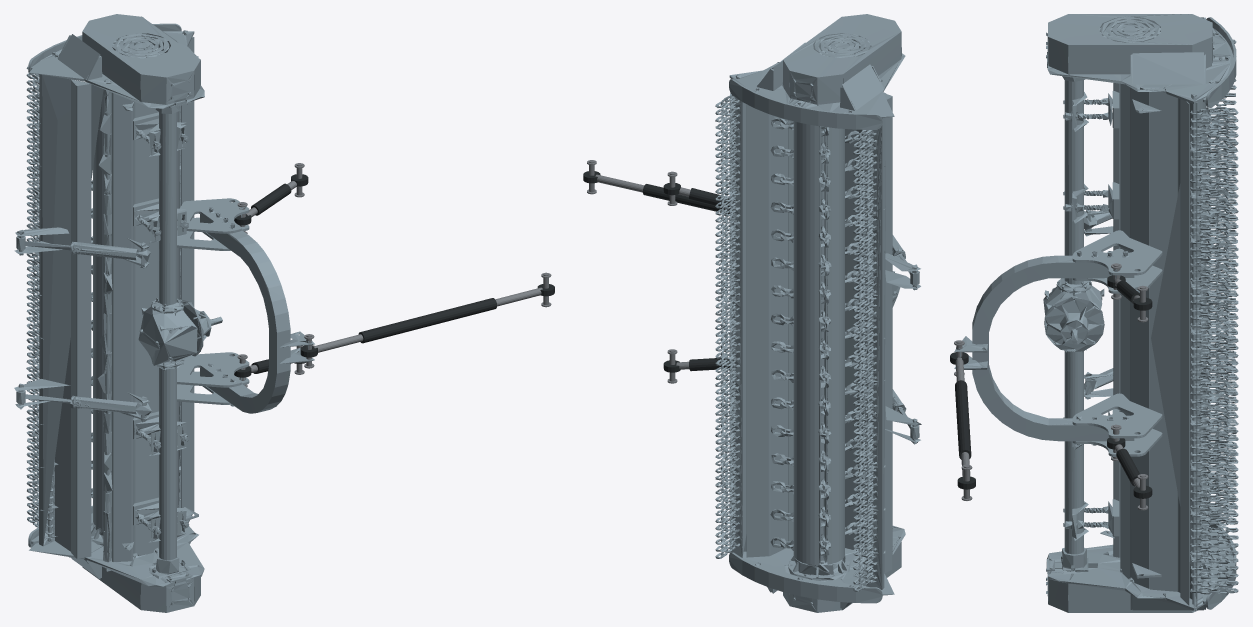
File: implement_forest_chain_crusher_visual.obj
3 renders of one model, left to right at view 1: azimuth 30°, elevation 25°; view 2: azimuth 150°, elevation 25°; view 3: azimuth 270°, elevation 25°, orthographic. The views are drawn at different scales.
Parts seen in each view (by area): view 1: solid_1104, solid_1116, solid_51, solid_49, solid_1168, solid_1170, solid_596, solid_86, solid_203, solid_261, solid_24, solid_135 (+12 smaller); view 2: solid_50, solid_558, solid_596, solid_1168, solid_1104, solid_49, solid_48, solid_1116, solid_132, solid_134, solid_0, solid_24 (+6 smaller); view 3: solid_49, solid_50, solid_1168, solid_48, solid_1170, solid_86, solid_261, solid_203, solid_24, solid_136, solid_18, solid_1169 (+16 smaller).
Boxes of the visible parts, left/top/right/bottom form: solid_1104: left=39, top=74, right=103, bottom=546; solid_1116: left=71, top=79, right=91, bottom=558; solid_51: left=111, top=92, right=132, bottom=561; solid_49: left=110, top=92, right=178, bottom=558; solid_1168: left=82, top=14, right=200, bottom=102; solid_1170: left=200, top=214, right=290, bottom=413; solid_596: left=93, top=92, right=104, bottom=529; solid_86: left=181, top=37, right=194, bottom=511; solid_203: left=159, top=112, right=176, bottom=305; solid_261: left=159, top=367, right=176, bottom=560; solid_24: left=29, top=510, right=204, bottom=586; solid_135: left=138, top=306, right=197, bottom=365; solid_50: left=746, top=104, right=787, bottom=557; solid_558: left=793, top=121, right=818, bottom=565; solid_596: left=827, top=127, right=844, bottom=564; solid_1168: left=782, top=14, right=901, bottom=102; solid_1104: left=866, top=117, right=885, bottom=589; solid_49: left=788, top=120, right=865, bottom=551; solid_48: left=730, top=79, right=746, bottom=557; solid_1116: left=883, top=93, right=892, bottom=573; solid_132: left=729, top=79, right=882, bottom=129; solid_134: left=729, top=552, right=882, bottom=603; solid_0: left=729, top=44, right=905, bottom=117; solid_24: left=729, top=525, right=905, bottom=595; solid_49: left=1120, top=83, right=1149, bottom=588; solid_50: left=1150, top=91, right=1192, bottom=599; solid_1168: left=1047, top=14, right=1212, bottom=71; solid_48: left=1151, top=102, right=1197, bottom=606; solid_1170: left=972, top=255, right=1134, bottom=441; solid_86: left=1180, top=99, right=1189, bottom=605; solid_261: left=1064, top=351, right=1083, bottom=554; solid_203: left=1064, top=80, right=1083, bottom=284; solid_24: left=1047, top=544, right=1211, bottom=610; solid_136: left=1044, top=296, right=1104, bottom=351; solid_18: left=1132, top=52, right=1203, bottom=84; solid_1169: left=1047, top=578, right=1197, bottom=612.
Bounding box in the file's own units: 2.43 × 2.85 × 1.31.
